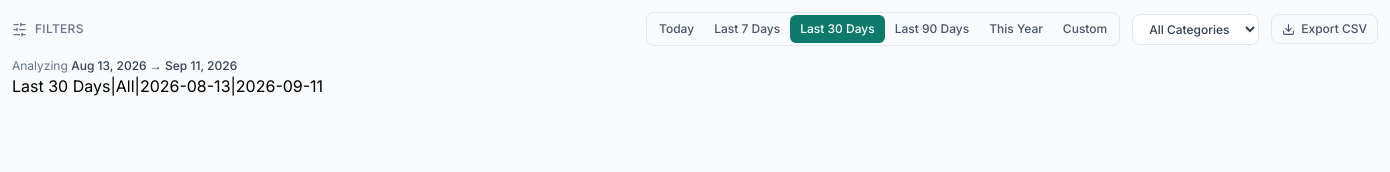
Scenario: Filter interaction › changing the date range preset updates filter state to the matching computed range
The image size is (1390, 172).
Click the button "Last 7 Days": (747, 29) 704,15 -> 790,43
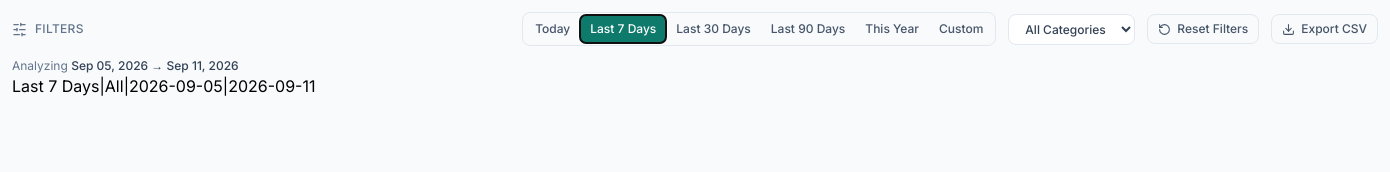
Result: the text with test id "state" shows "Last 7 Days|" at 12,76 -> 315,96
